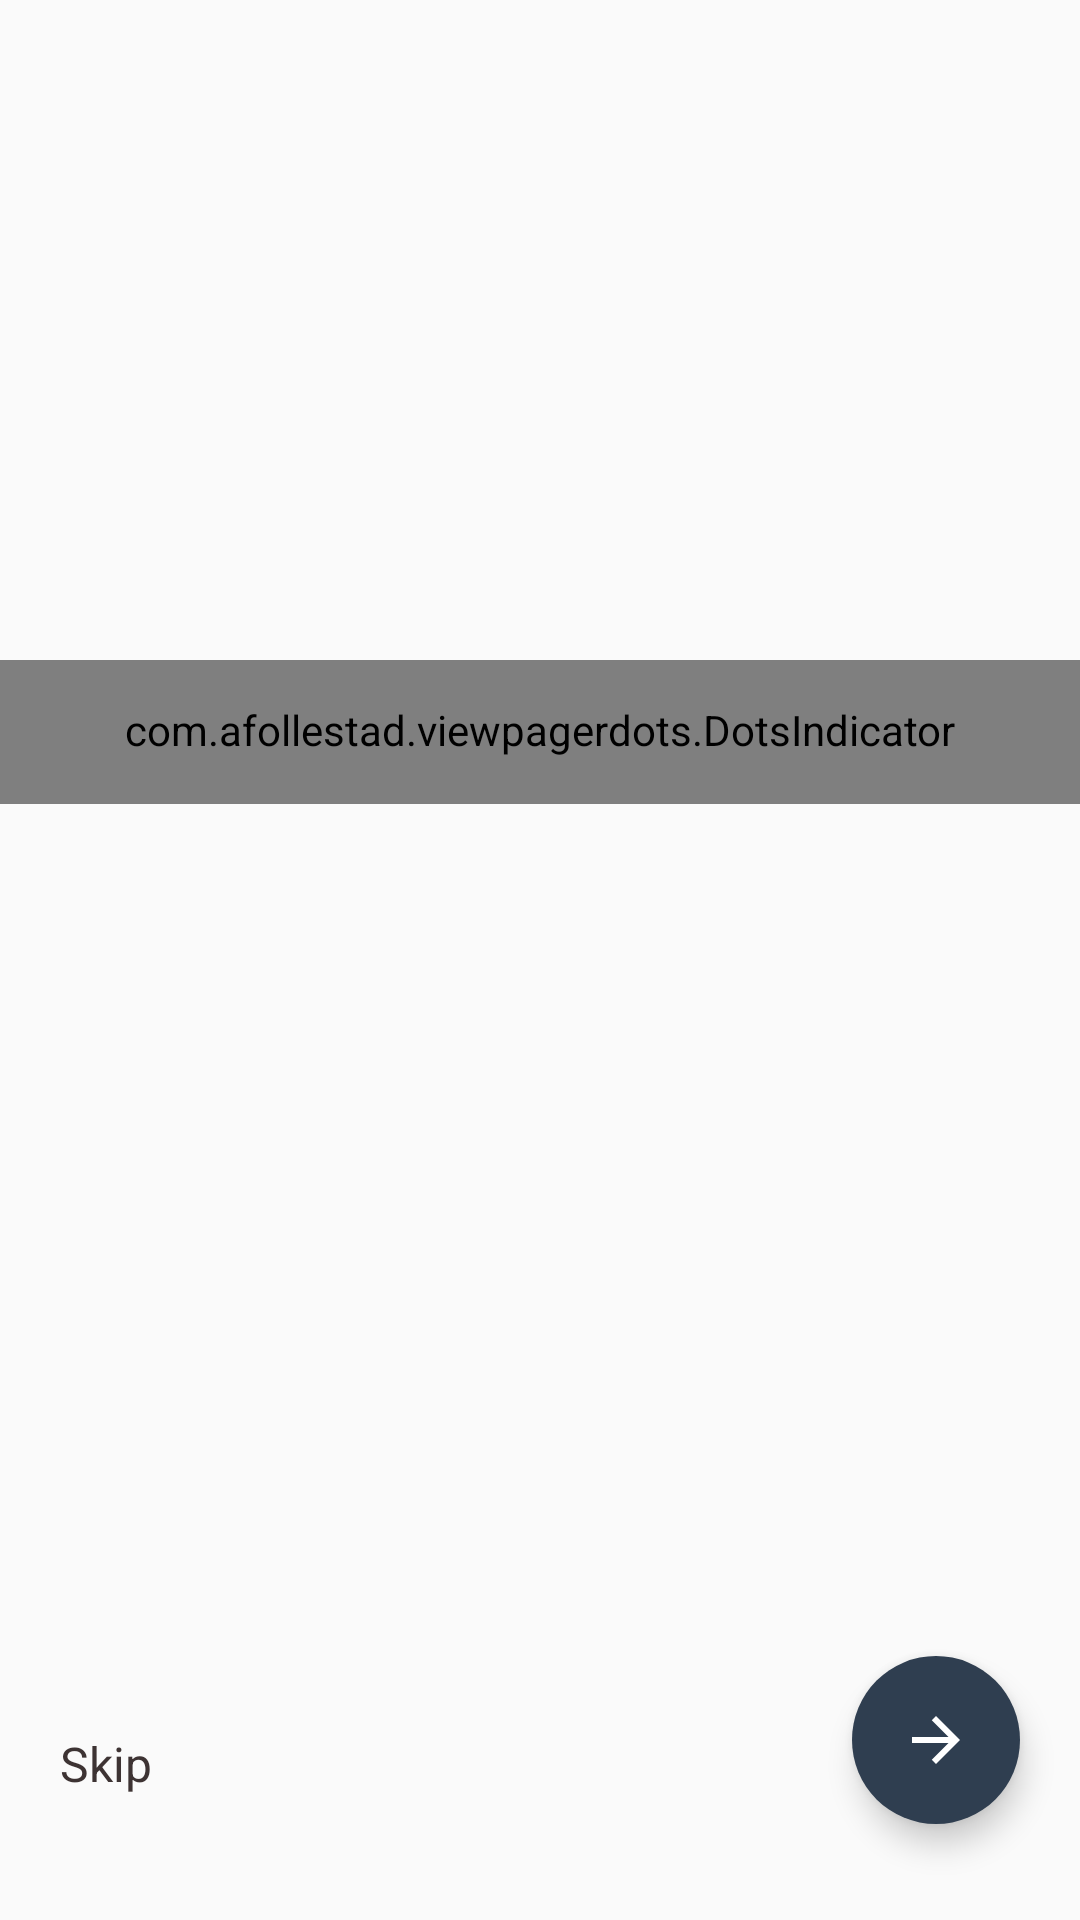

Screen size 1080 × 1920. Icon name, then its box in pixels as (x1, y1, x2, y2):
arrow forward: (852, 1656, 1020, 1824)
